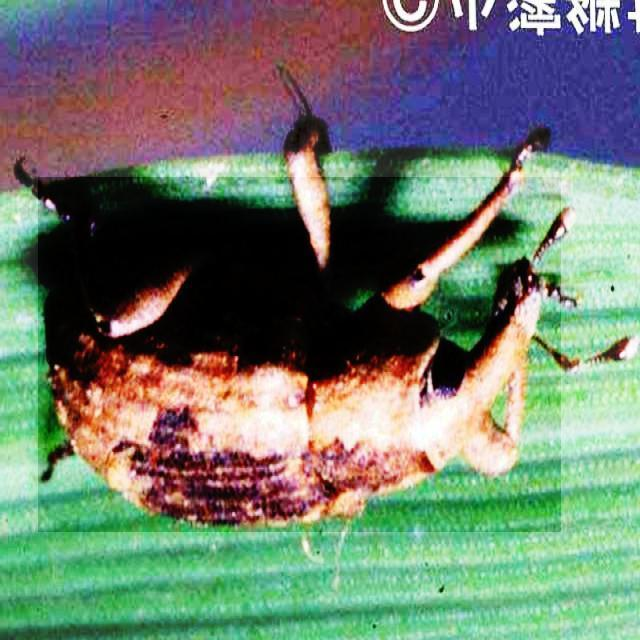rice-bug: (38, 177, 561, 532)
